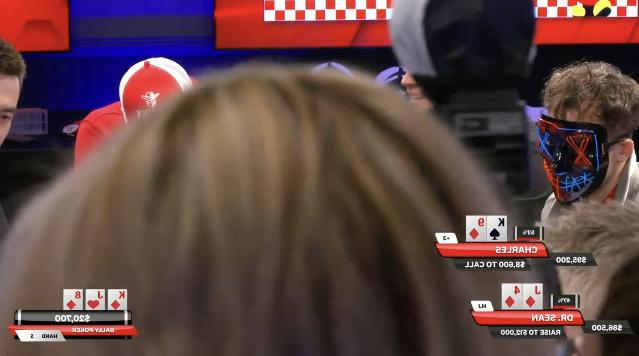4D: (501, 284, 521, 310)
8D: (62, 289, 82, 311)
9D: (465, 215, 485, 243)
JD: (522, 282, 544, 310)
JH: (84, 290, 104, 310)
KD: (107, 288, 126, 312)
KS: (486, 216, 506, 242)
